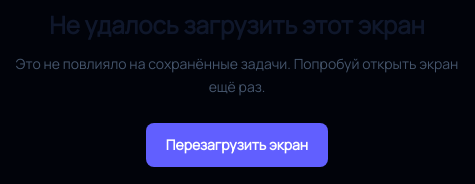
Scenario: AppErrorBoundary › shows reload progress and reloads the page after a route failure
The image size is (475, 184).
Click the button "Перезагрузить экран".
click(237, 145)  # box [146,123,328,167]
Wait 100 ms
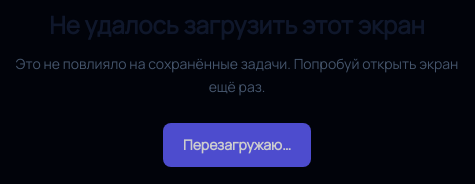
Expected: the button "Перезагружаю…" is disabled, [163,123,311,167]
